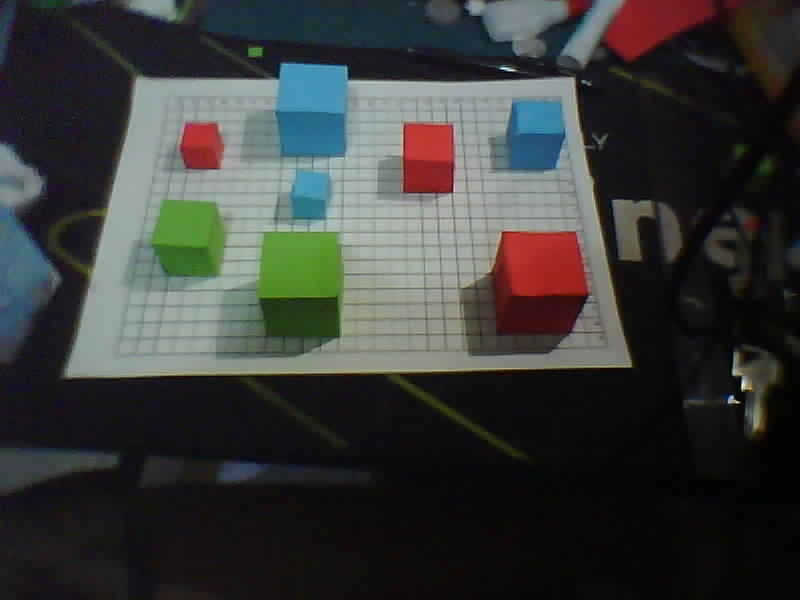blue(2x2x2): (282, 164, 340, 222)
blue(3x3x3): (492, 95, 567, 172)
blue(4x4x4): (271, 55, 359, 161)
green(3x3x3): (151, 190, 228, 280)
green(4x4x4): (249, 227, 352, 339)
red(2x2x2): (397, 108, 466, 198), (173, 121, 237, 171)
red(3x3x3): (484, 215, 597, 344)
